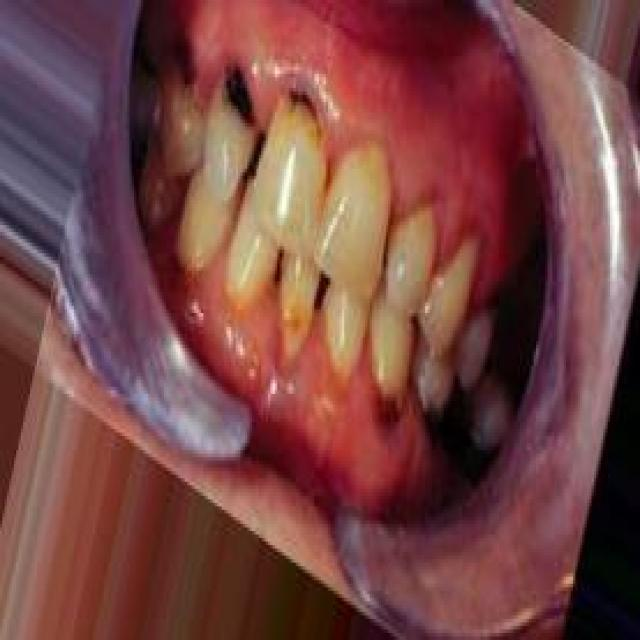caries: (208, 52, 260, 160), (274, 243, 318, 366), (156, 31, 202, 146), (265, 73, 338, 142), (367, 393, 417, 461)
